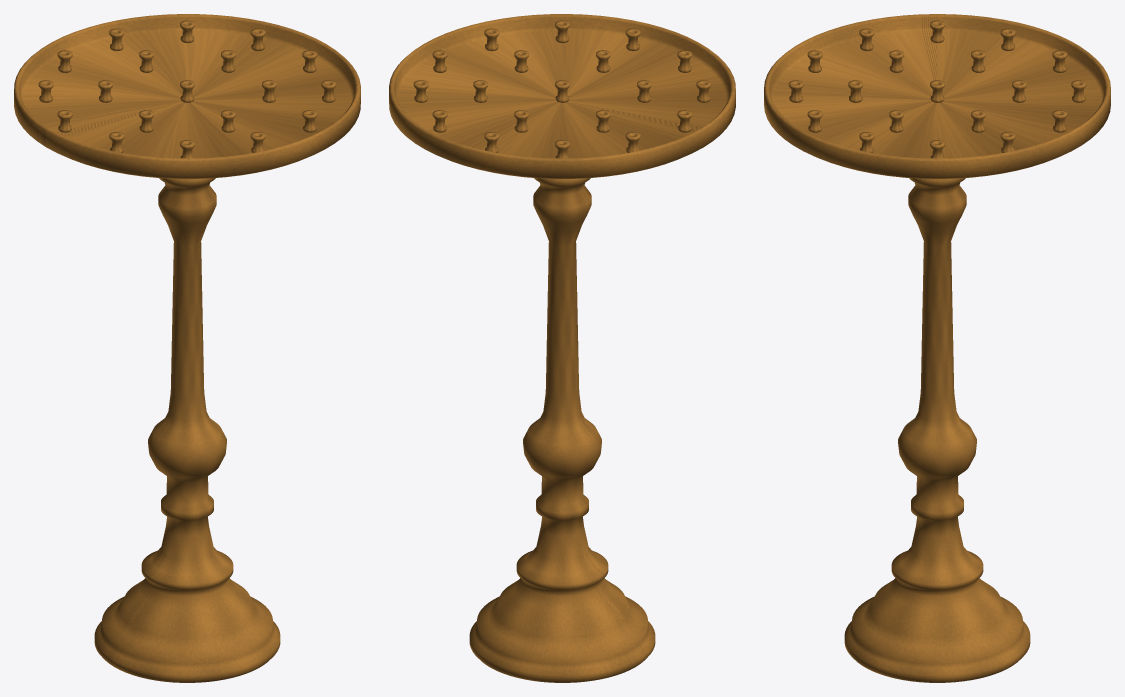
Rendered from candle_stand.glb.
The picture shows the model from 3 angles, left to right: view 1: azimuth 30°, elevation 25°; view 2: azimuth 150°, elevation 25°; view 3: azimuth 270°, elevation 25°; orthographic projection.
Parts seen in each view (by area): view 1: Tray, Pedestal; view 2: Tray, Pedestal; view 3: Tray, Pedestal.
Boxes of the visible parts, x1,y1,x2,y2 form: Tray: (14,14,360,178); Pedestal: (94,178,280,682); Tray: (389,14,735,178); Pedestal: (469,178,655,682); Tray: (764,14,1110,178); Pedestal: (844,178,1030,682).
Bounding box in the file's own units: 0.56 × 1 × 0.56.
1 material, 1 textured.
